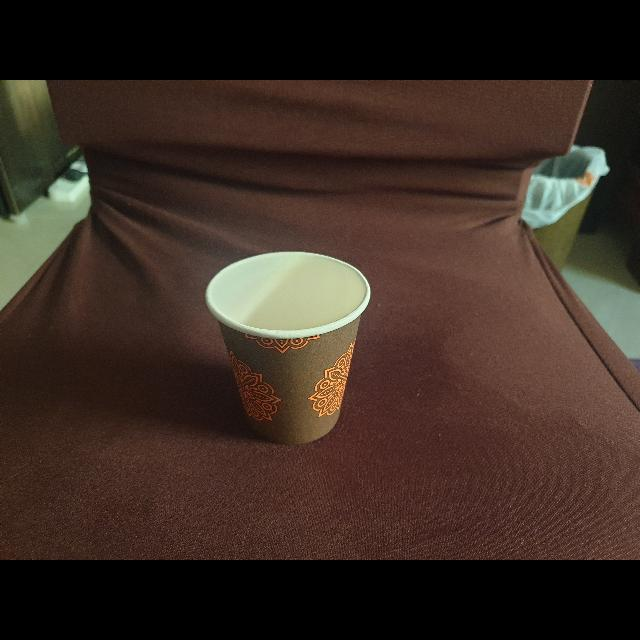trash: (206, 246, 376, 446)
